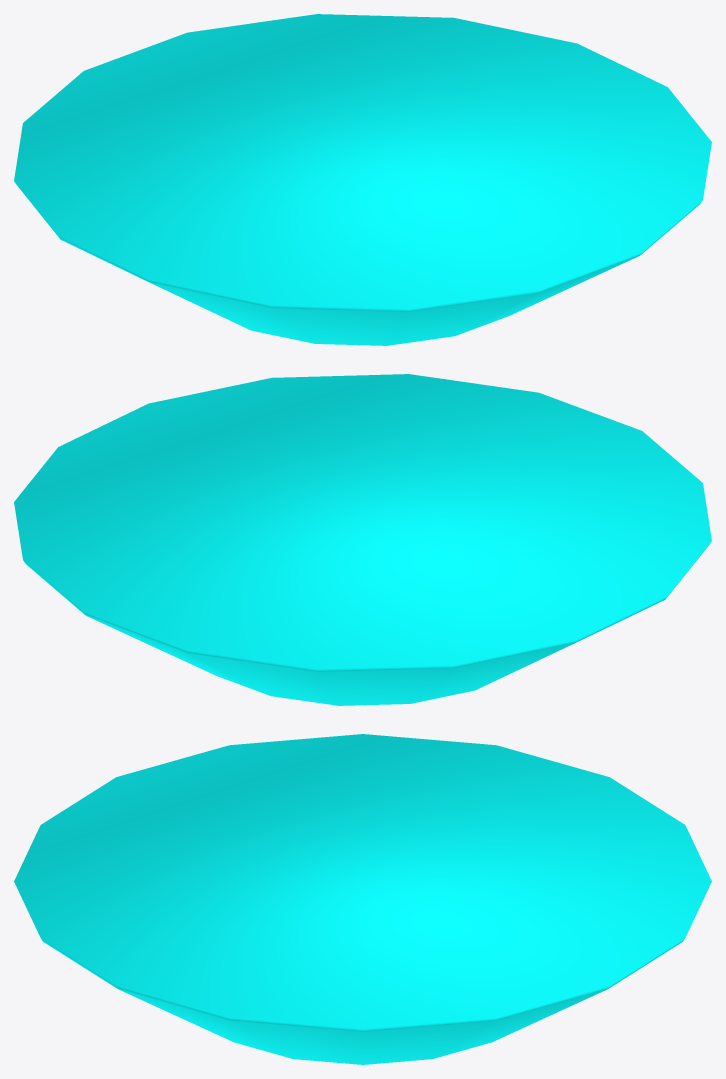
File: WaterDrop_10.glb
The picture shows the model from 3 angles, top to bottom: view 1: azimuth 30°, elevation 25°; view 2: azimuth 150°, elevation 25°; view 3: azimuth 270°, elevation 25°; orthographic projection.
Parts seen in each view (by area): view 1: WaterDrop_10; view 2: WaterDrop_10; view 3: WaterDrop_10.
Part boxes in pixels (x1,y1,x2,y2): WaterDrop_10: (14, 14, 711, 345); WaterDrop_10: (14, 374, 711, 705); WaterDrop_10: (14, 734, 711, 1064).
Bounding box in the file's own units: 0.4409 × 0.0891 × 0.4409.
1 material, 1 textured.
